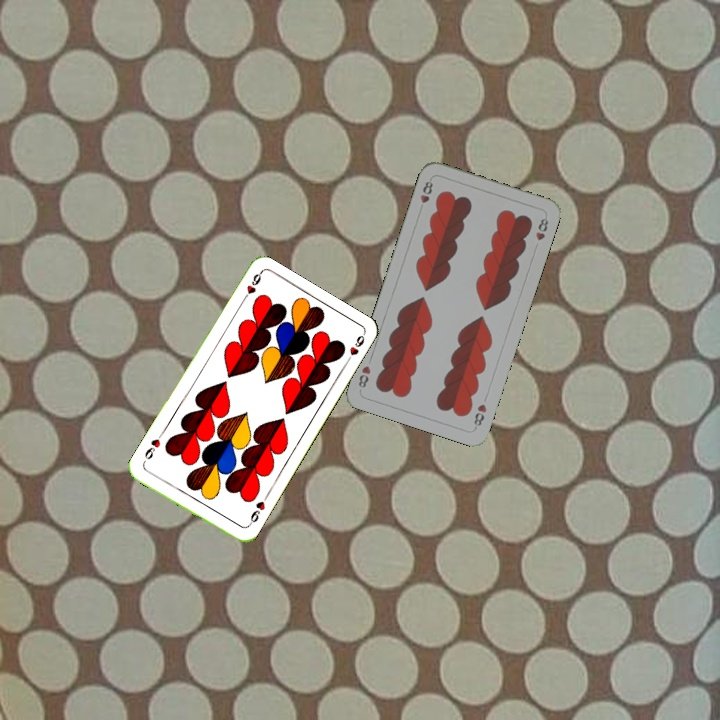H8: (415, 177, 436, 214), (470, 400, 489, 431)
H9: (243, 492, 270, 529), (238, 269, 264, 306)
